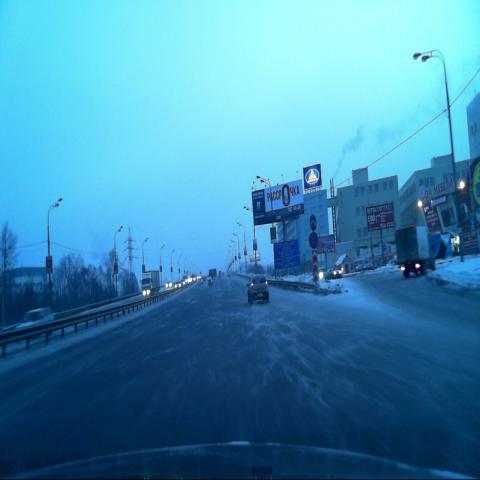3_27: (309, 232, 318, 250)
4_2_3: (309, 213, 316, 231)
